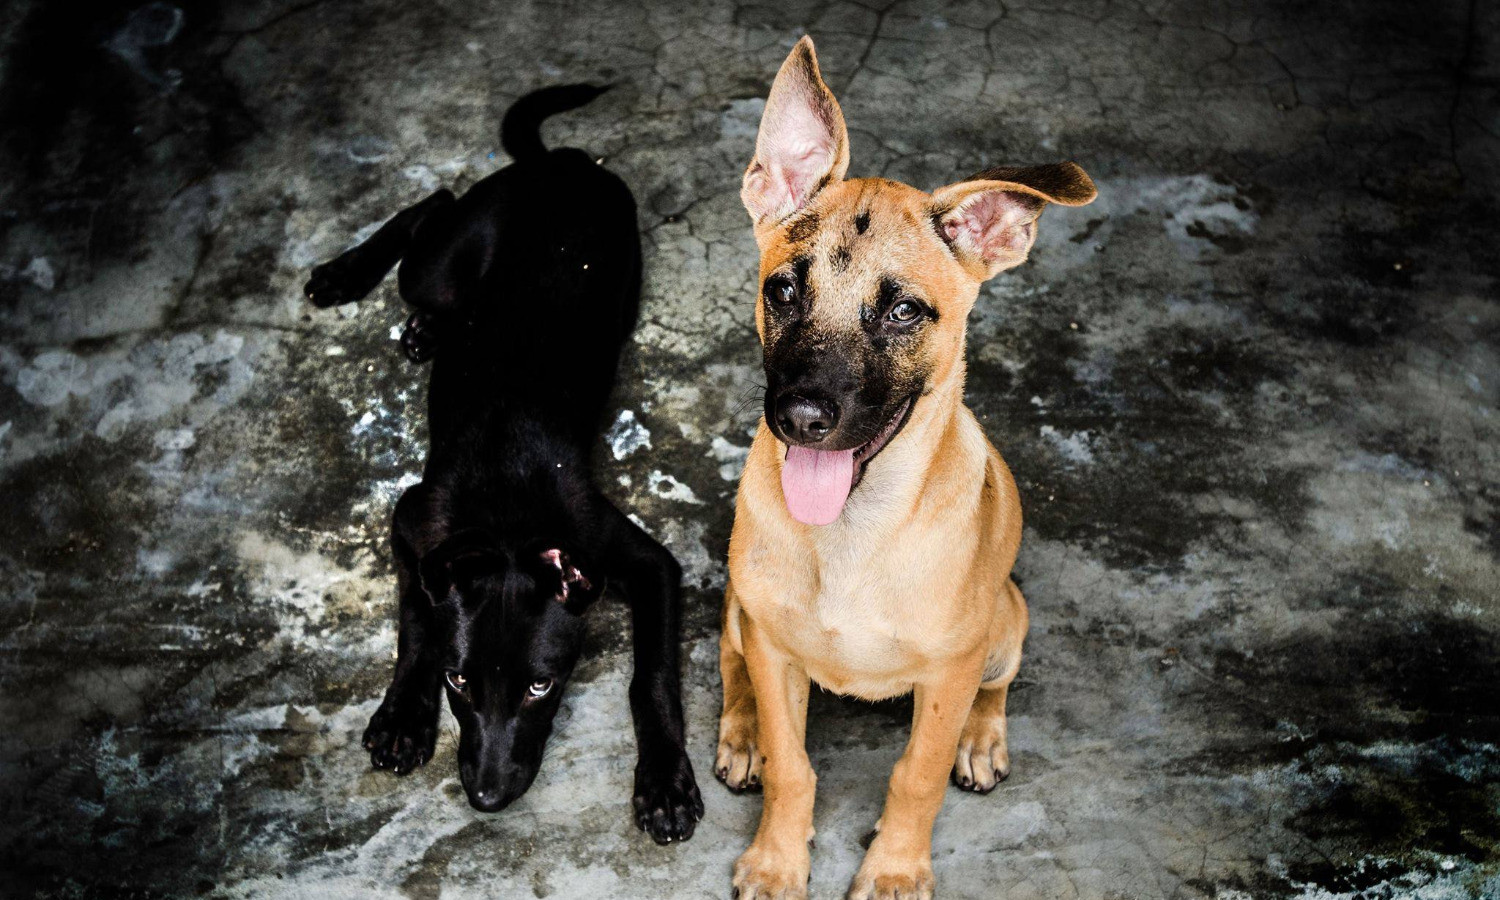Dog: (712, 6, 1057, 892), (301, 119, 706, 851)
